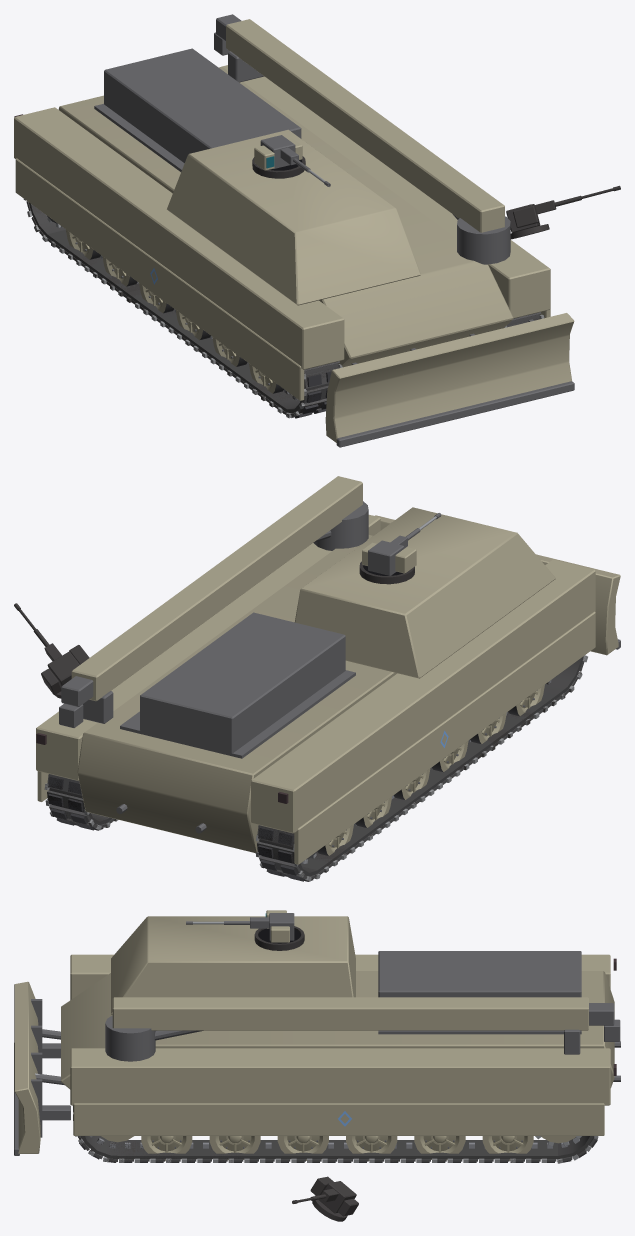
File: recoveryVehicle__k1_arv_korean.glb
The picture shows the model from 3 angles, top to bottom: view 1: azimuth 30°, elevation 25°; view 2: azimuth 150°, elevation 25°; view 3: azimuth 270°, elevation 25°; orthographic projection. The views are drawn at different scales.
Visible parts, largest first — view 1: Hull_Mesh, Track_L_Mesh, Wreck, Turret_Mesh; view 2: Hull_Mesh, Track_L_Mesh, Wreck, Track_R_Mesh, Turret_Mesh; view 3: Hull_Mesh, Track_R_Mesh, Wreck, Wheel_R4_Mesh, Wheel_R1_Mesh, Wheel_R2_Mesh, Wheel_R5_Mesh, Wheel_R0_Mesh, Wheel_R3_Mesh, Turret_Mesh, Gun_Mesh.
Boxes of the visible parts, x1,y1,x2,y2 form: Hull_Mesh: [14, 14, 574, 447]; Track_L_Mesh: [23, 199, 342, 418]; Wreck: [25, 156, 620, 416]; Turret_Mesh: [254, 135, 302, 170]; Hull_Mesh: [36, 476, 620, 864]; Track_L_Mesh: [255, 655, 587, 881]; Wreck: [14, 561, 584, 881]; Track_R_Mesh: [44, 774, 118, 830]; Turret_Mesh: [362, 540, 416, 575]; Hull_Mesh: [14, 916, 620, 1155]; Track_R_Mesh: [73, 1111, 598, 1163]; Wreck: [73, 926, 594, 1221]; Wheel_R4_Mesh: [209, 1136, 260, 1160]; Wheel_R1_Mesh: [414, 1136, 465, 1160]; Wheel_R2_Mesh: [346, 1136, 397, 1160]; Wheel_R5_Mesh: [141, 1136, 192, 1161]; Wheel_R0_Mesh: [482, 1136, 533, 1160]; Wheel_R3_Mesh: [277, 1136, 328, 1160]; Turret_Mesh: [265, 910, 294, 942]; Gun_Mesh: [186, 917, 269, 928].
Size of what is drawn, in the model's own units: 6.38 by 2.62 by 8.18.
